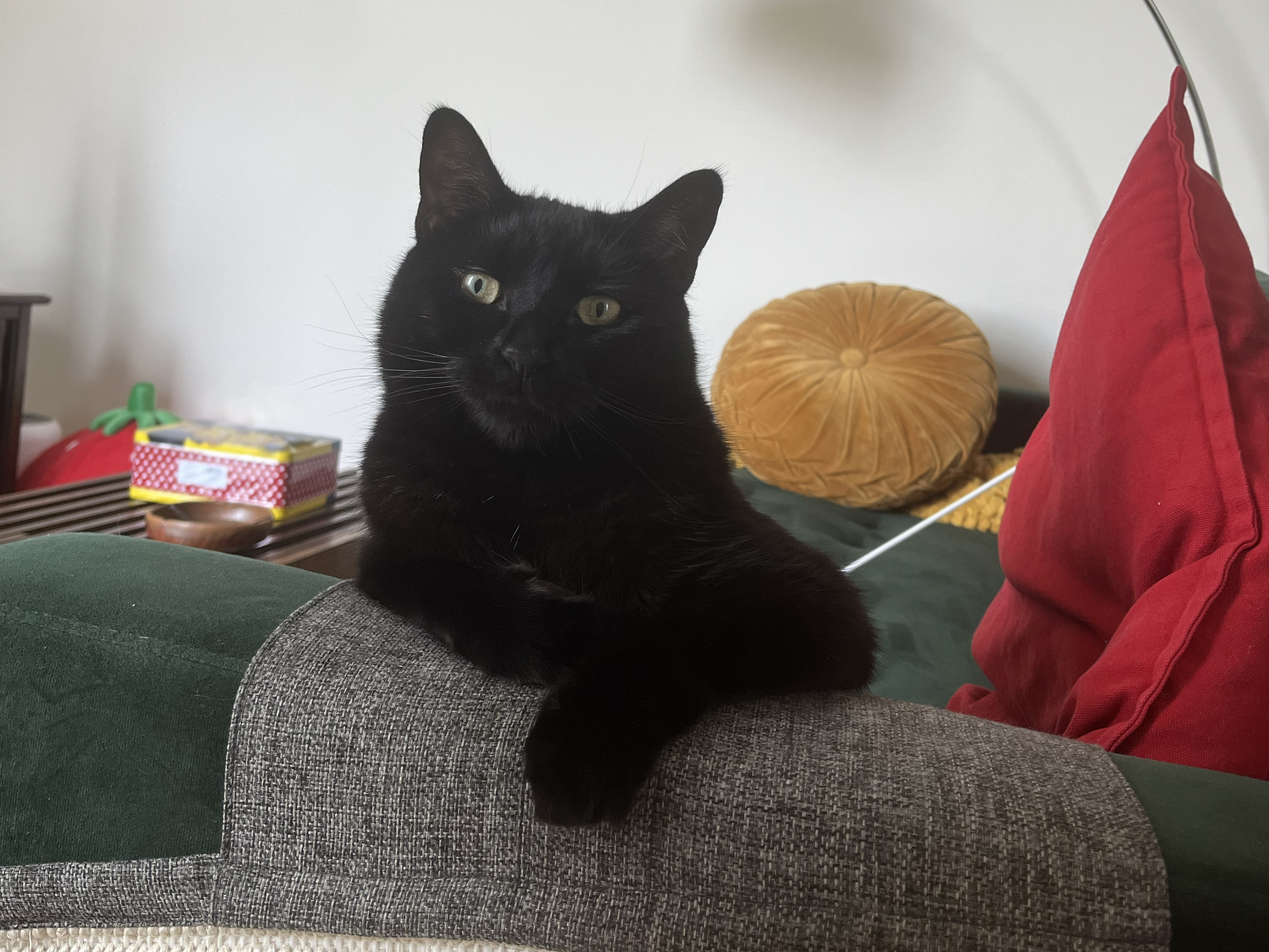Cat: (344, 90, 880, 817)
